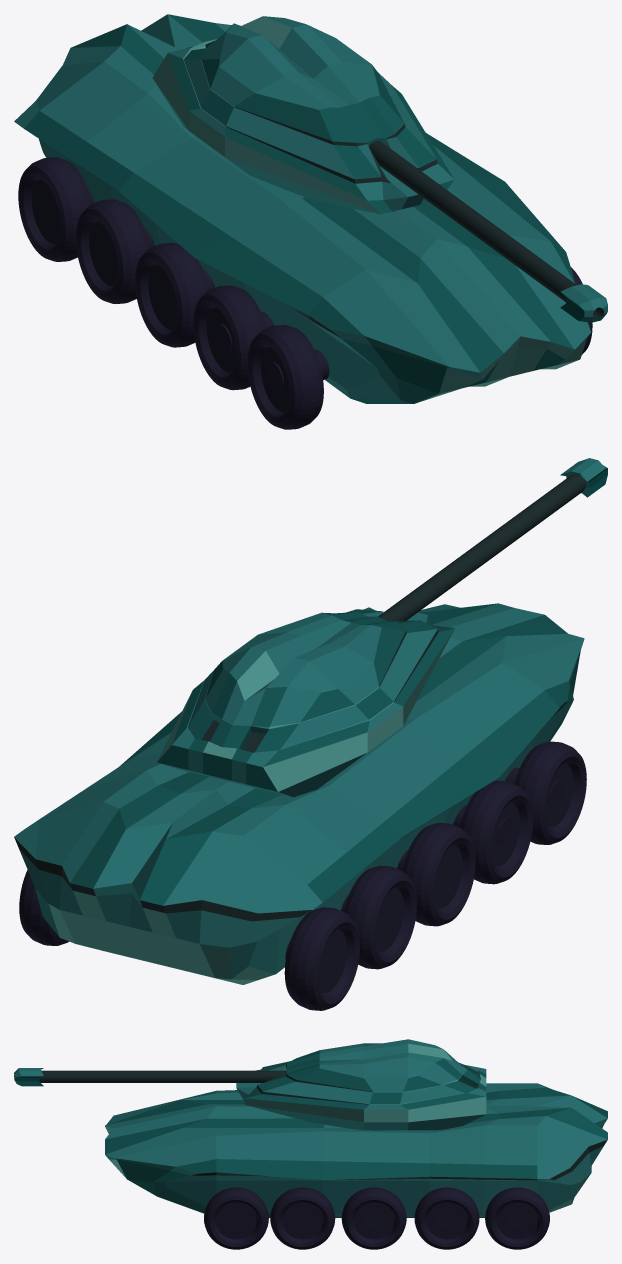
The model's file is tank.fbx.
The picture shows the model from 3 angles, top to bottom: view 1: azimuth 30°, elevation 25°; view 2: azimuth 150°, elevation 25°; view 3: azimuth 270°, elevation 25°; orthographic projection. The views are drawn at different scales.
Visible parts, largest first — view 1: corpus, tower, WheelR, Barrel, WheelR.003, WheelR.002, WheelR.004, WheelR.001, Barrel.001, WheelDisk.005, WheelDisk.003, WheelDisk.006 (+3 smaller); view 2: corpus, tower, WheelR.004, Barrel, WheelR.002, WheelR.001, WheelR.003, WheelR, WheelL.003, WheelDisk.006, WheelDisk.005, WheelDisk.003 (+3 smaller); view 3: corpus, tower, Barrel, WheelL.002, WheelL, WheelL.004, WheelL.003, WheelL.001, WheelDisk.009, WheelDisk, WheelDisk.004, WheelDisk.002 (+2 smaller).
Boxes of the visible parts, x1,y1,x2,y2 form: corpus: [14, 14, 591, 403]; tower: [152, 16, 454, 214]; WheelR: [247, 325, 323, 429]; Barrel: [369, 141, 576, 301]; WheelR.003: [75, 199, 150, 303]; WheelR.002: [135, 242, 209, 347]; WheelR.004: [18, 157, 92, 261]; WheelR.001: [193, 285, 266, 390]; Barrel.001: [560, 284, 607, 322]; WheelDisk.005: [148, 265, 177, 329]; WheelDisk.003: [31, 179, 60, 243]; WheelDisk.006: [89, 221, 118, 286]; corpus: [14, 603, 584, 984]; tower: [157, 607, 454, 797]; WheelR.004: [284, 907, 360, 1010]; Barrel: [378, 474, 586, 621]; WheelR.002: [402, 822, 475, 926]; WheelR.001: [460, 780, 533, 884]; WheelR.003: [344, 865, 417, 969]; WheelR: [514, 741, 586, 844]; WheelL.003: [19, 870, 68, 945]; WheelDisk.006: [375, 887, 403, 951]; WheelDisk.005: [434, 844, 462, 908]; WheelDisk.003: [318, 929, 346, 992]; corpus: [105, 1083, 607, 1217]; tower: [236, 1039, 486, 1130]; Barrel: [39, 1070, 286, 1082]; WheelL.002: [414, 1187, 479, 1249]; WheelL: [341, 1187, 406, 1249]; WheelL.004: [270, 1187, 335, 1249]; WheelL.003: [485, 1187, 549, 1249]; WheelL.001: [204, 1187, 268, 1249]; WheelDisk.009: [216, 1202, 256, 1239]; WheelDisk: [282, 1202, 322, 1239]; WheelDisk.004: [497, 1202, 537, 1239]; WheelDisk.002: [426, 1202, 467, 1239].
Size of the model in its own units: 220 by 175 by 593.
